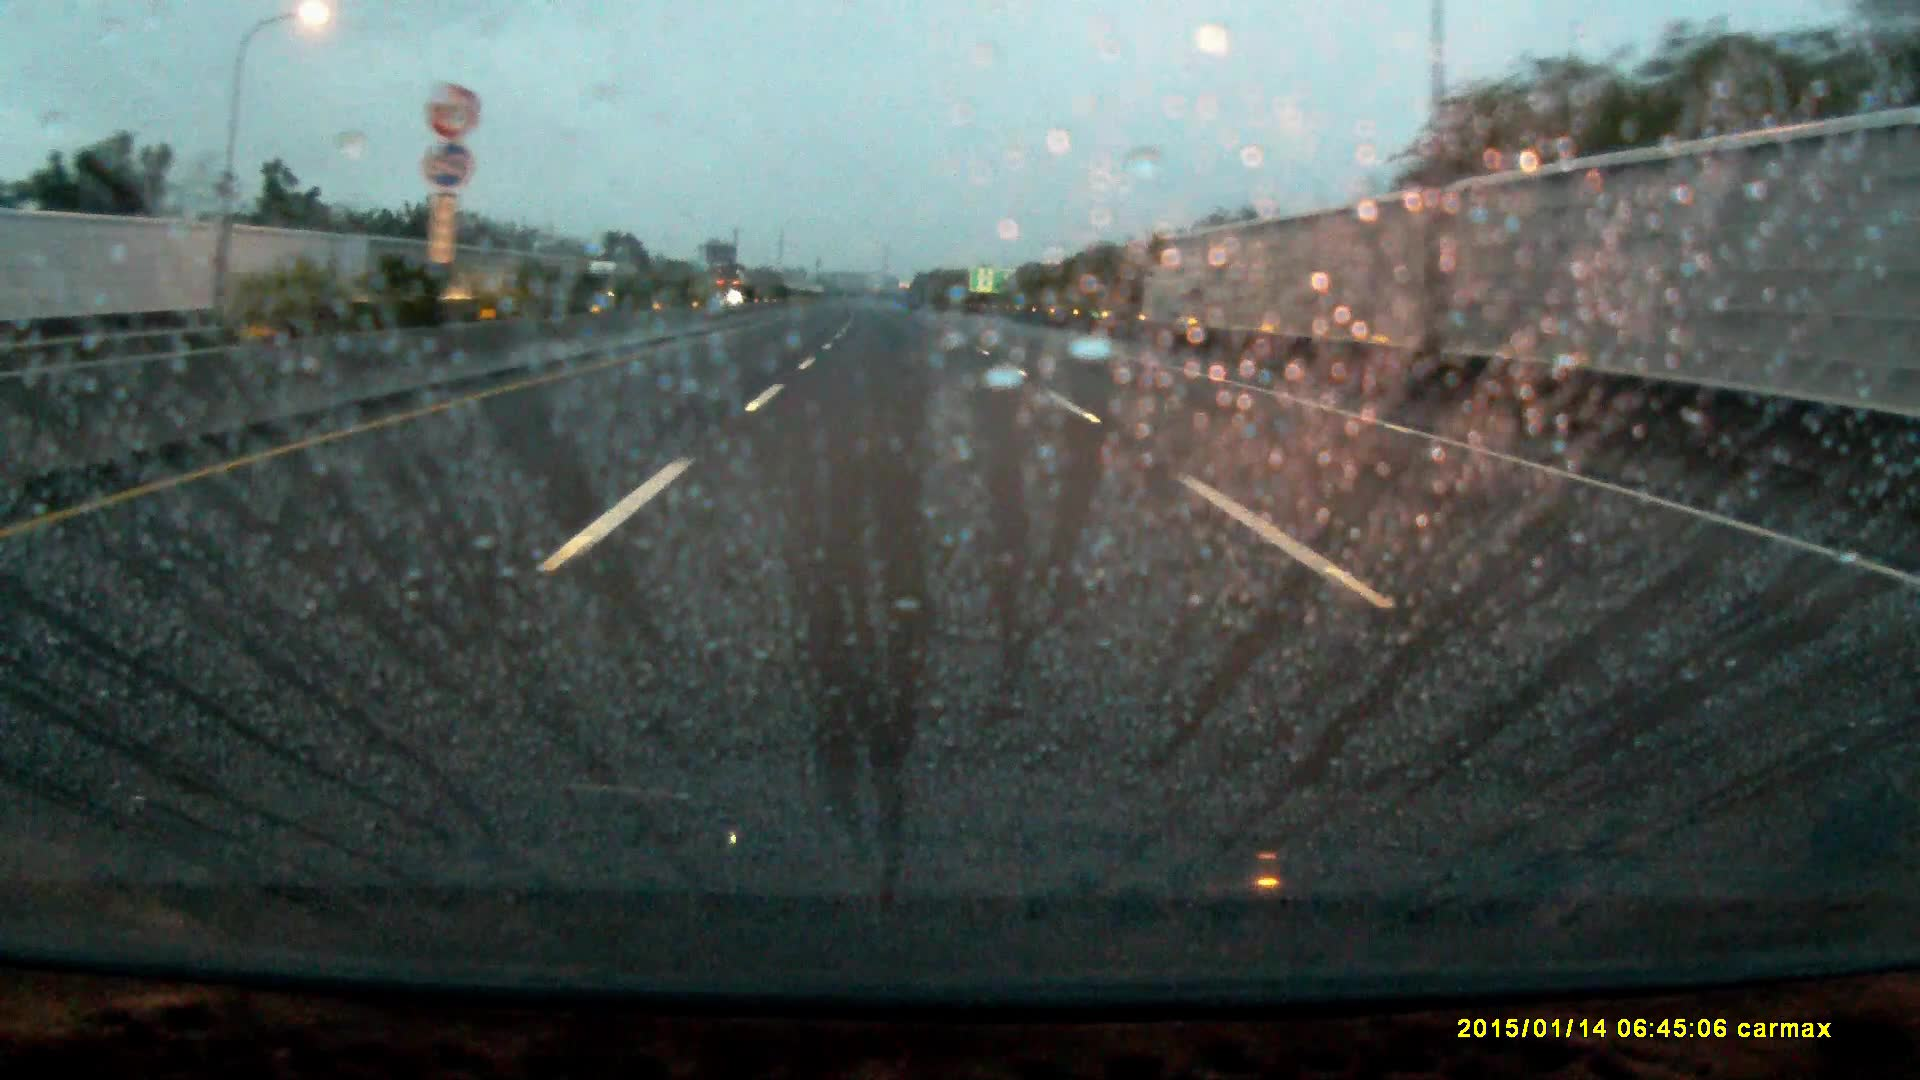vehicle: (585, 260, 636, 299), (716, 276, 752, 305)
